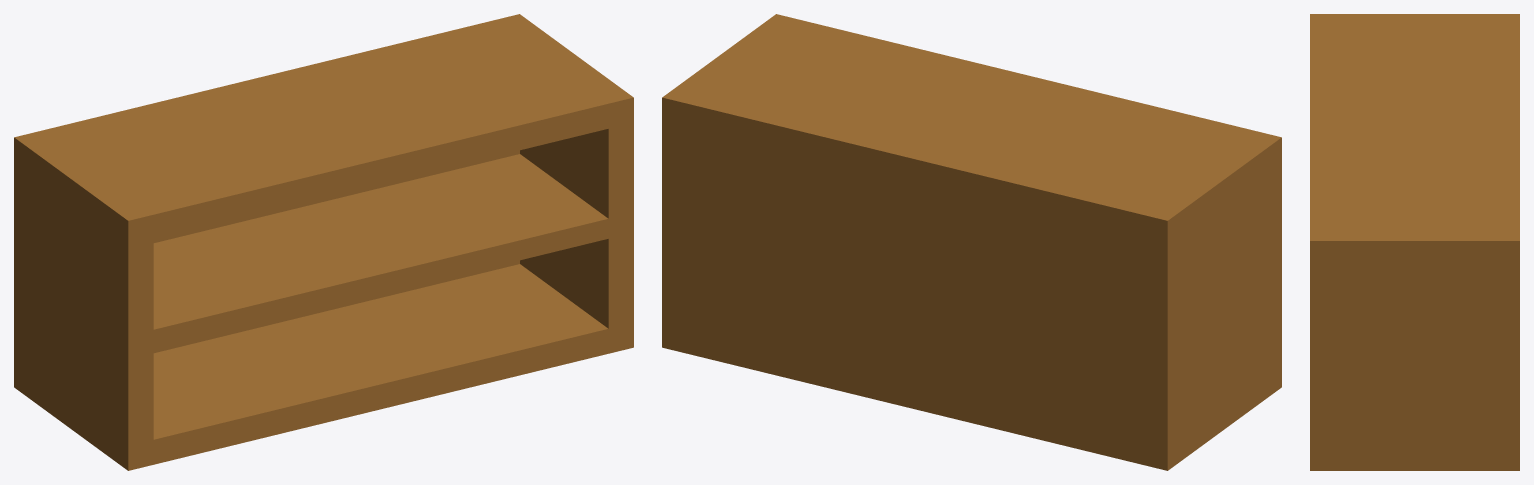
File: TV_Stand.fbx
3 views of the same model, side by side, from view 1: azimuth 30°, elevation 25°; view 2: azimuth 150°, elevation 25°; view 3: azimuth 270°, elevation 25° (orthographic). The views are drawn at different scales.
Parts seen in each view (by area): view 1: TV_Stand; view 2: TV_Stand; view 3: TV_Stand.
Boxes of the visible parts, left/top/right/bottom form: TV_Stand: left=14, top=14, right=633, bottom=470; TV_Stand: left=662, top=14, right=1281, bottom=470; TV_Stand: left=1310, top=14, right=1519, bottom=470.
Size of the model in its own units: 371 by 175 by 145.
